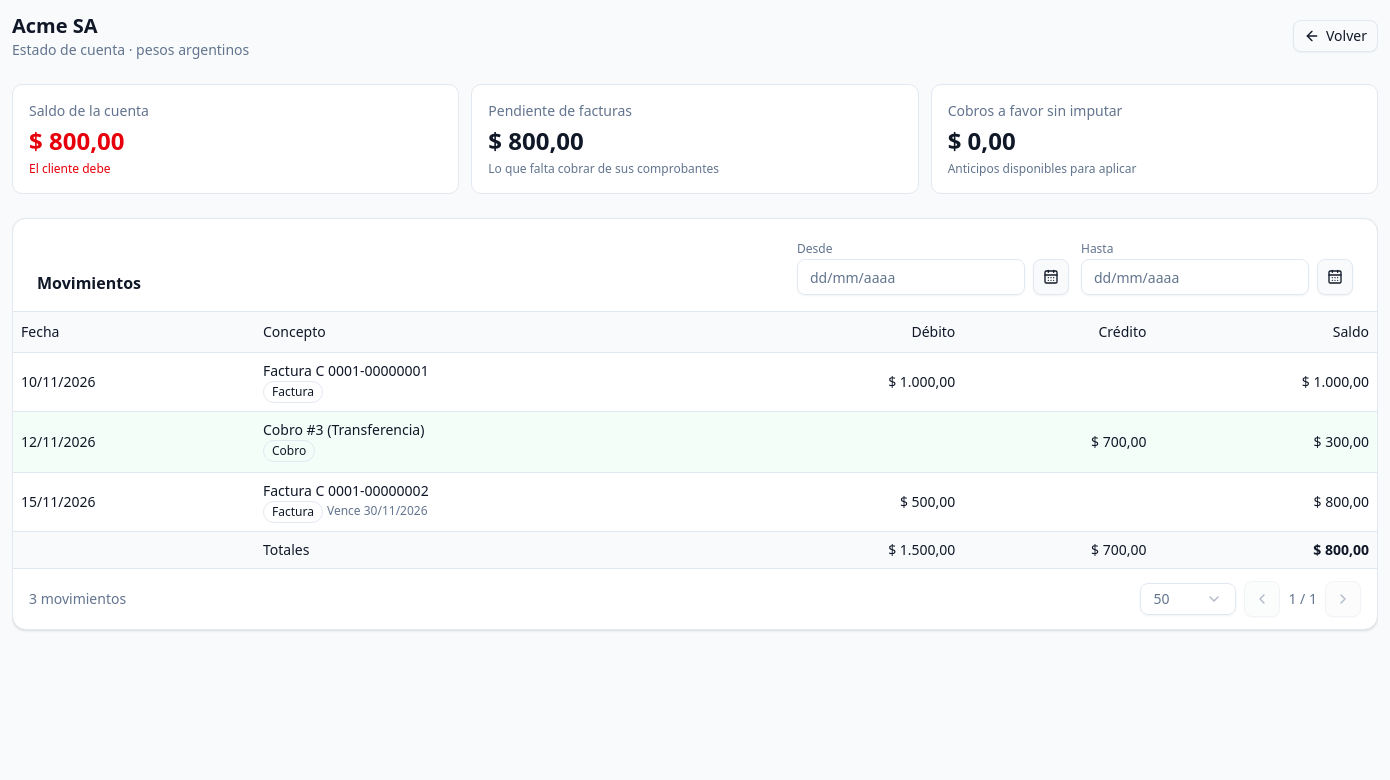
it: Estado de cuenta del cliente › filtrar por período vuelve a pedir y muestra el saldo anterior
Expected: the heading "Acme SA" is shown, [12,12,98,39]
Type "12112026" into the field named "statement_from" at (911, 277), box [797,259,1025,295]
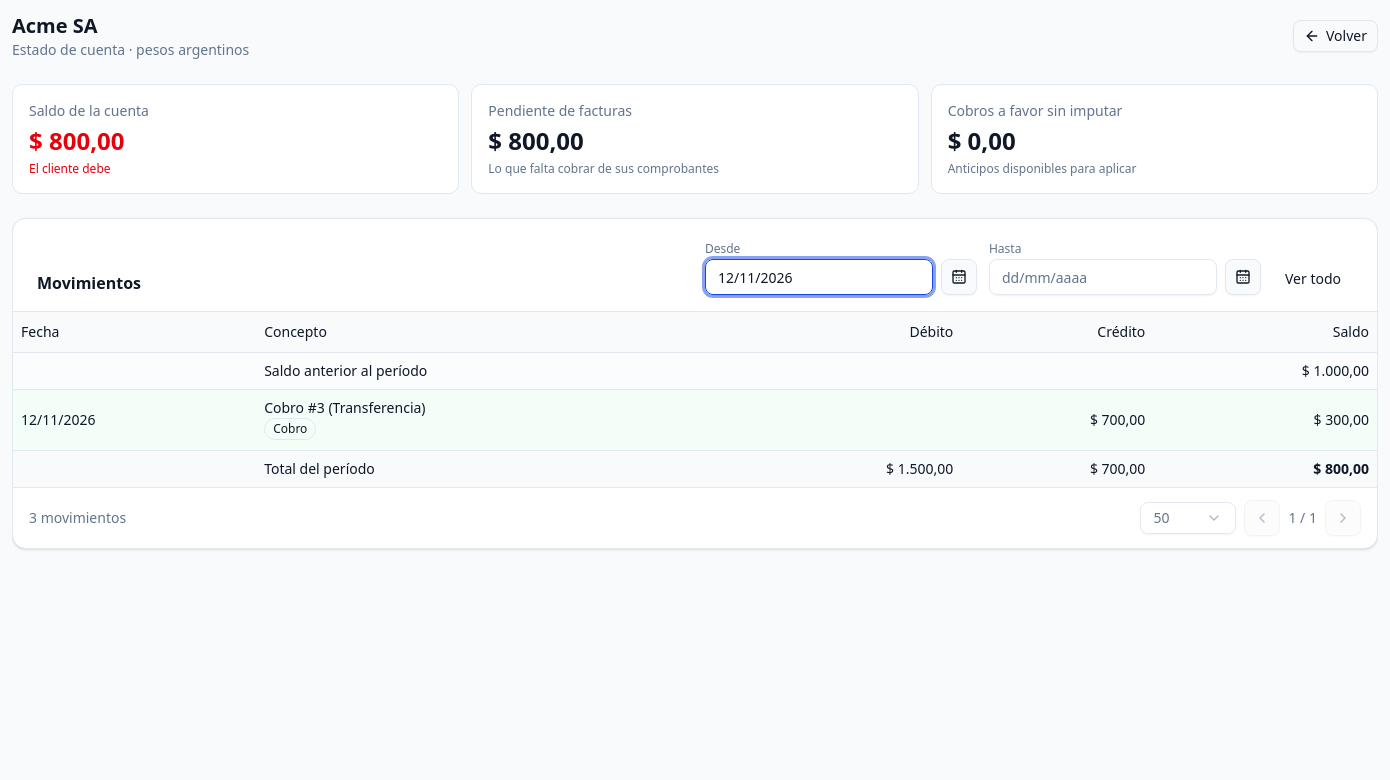
Result: the text "Saldo anterior al período" is shown at [256,352,738,389]
Result: the text "Total del período" is shown at [256,450,738,486]
